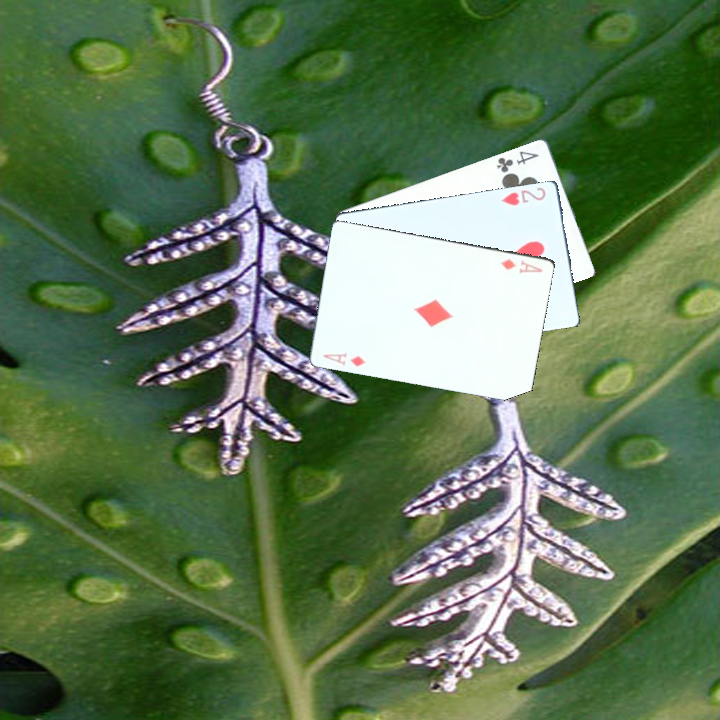2h: (497, 184, 548, 208)
4c: (492, 147, 541, 175)
Ad: (497, 254, 545, 276), (319, 349, 368, 369)
